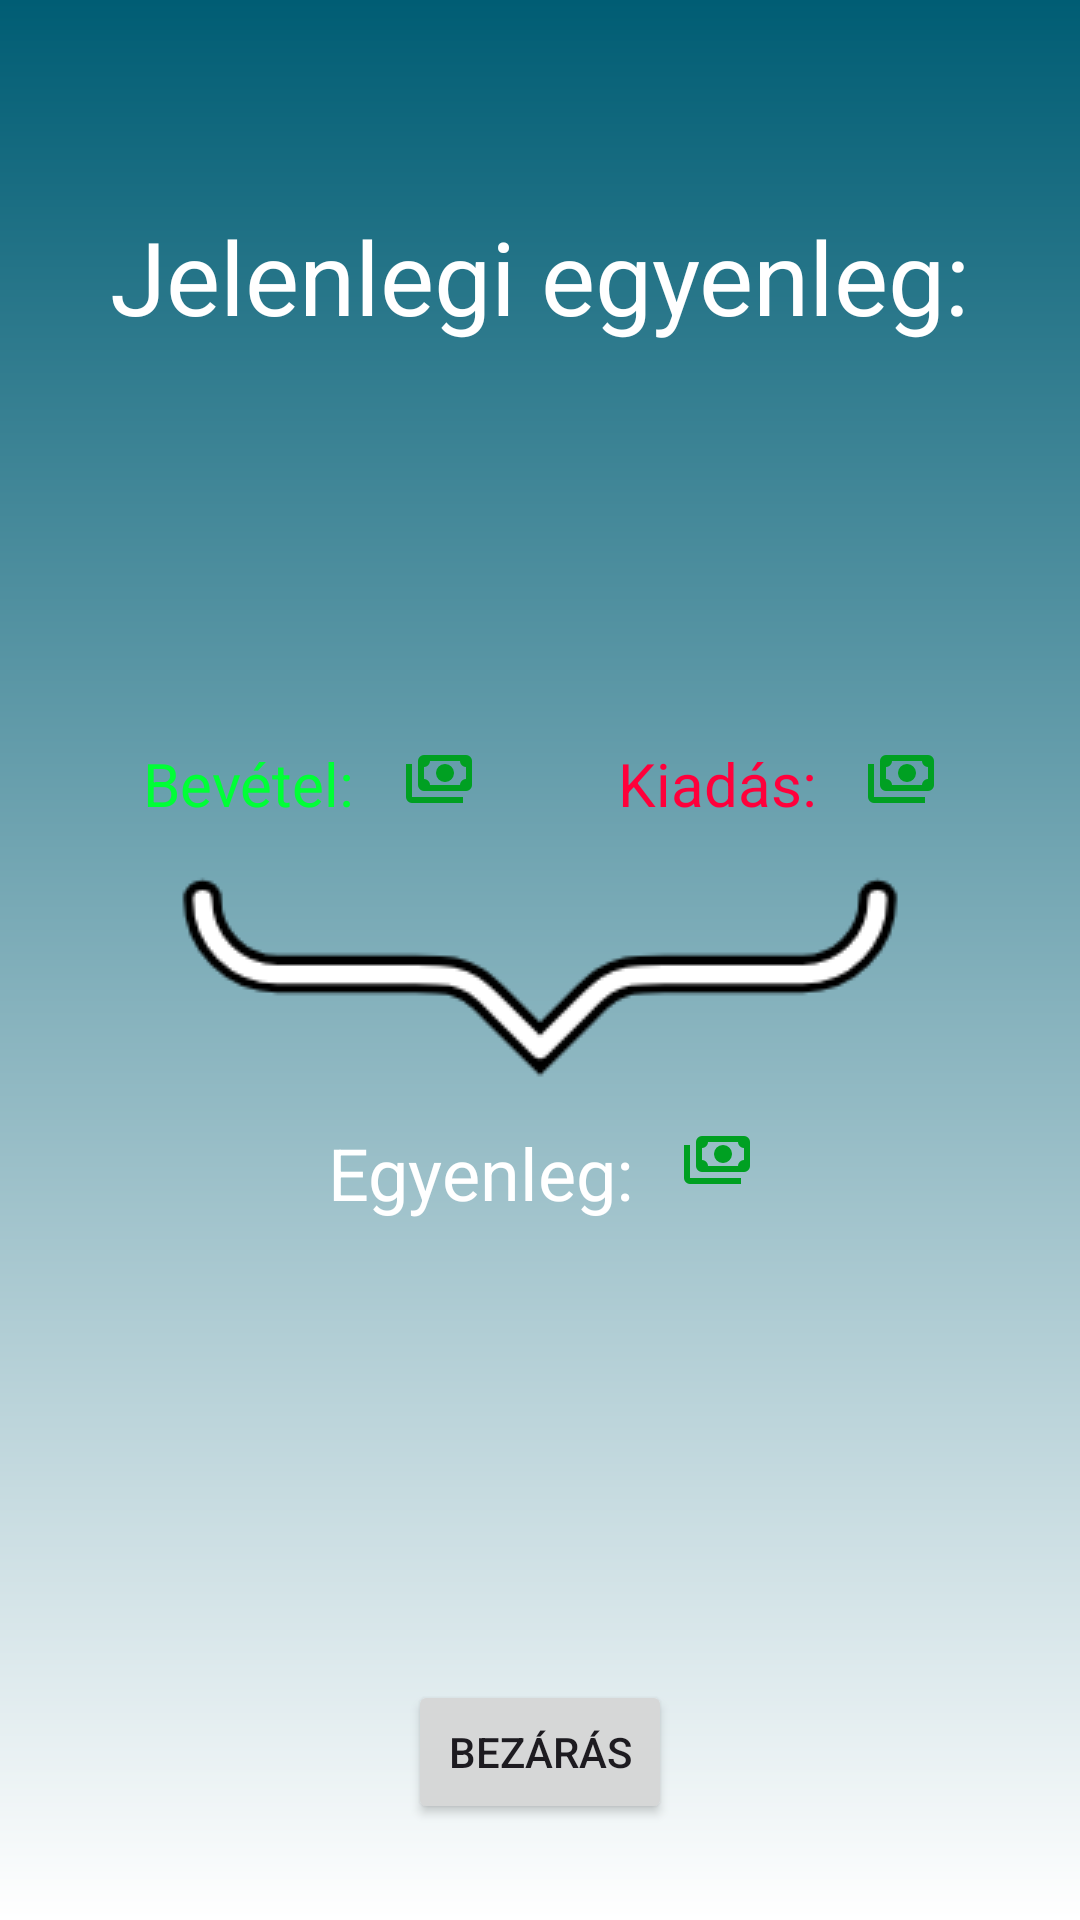

Named icons in this screenshot (1080*1920) and their bounding boxes, rect(x1, y1, x2, y2):
payments: rect(406, 755, 472, 803), rect(868, 755, 934, 803), rect(684, 1136, 750, 1184)
